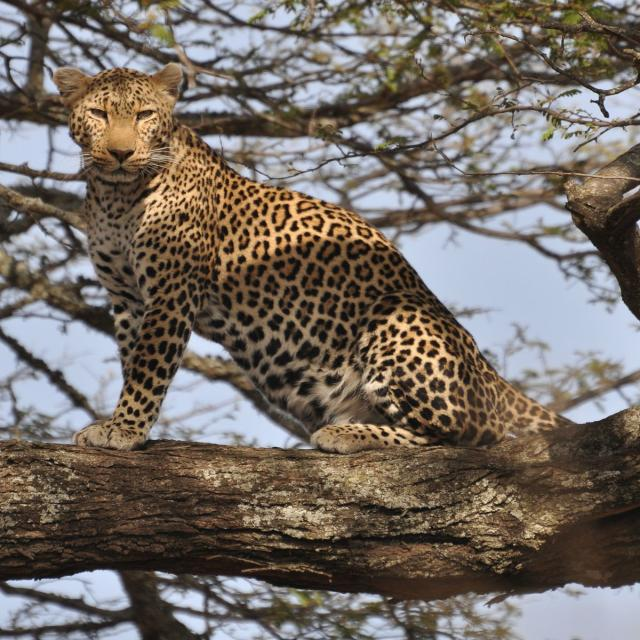leopard: (55, 64, 565, 453)
